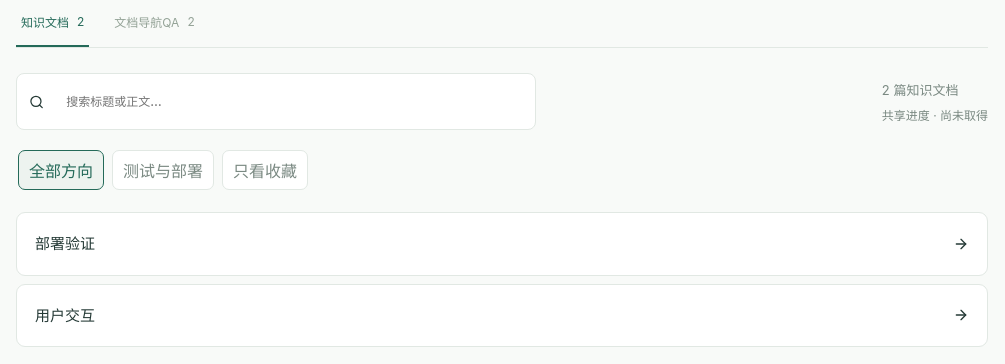
loads full text only when searching and finds a body-only match
The width and height of the screenshot is (1005, 364).
Expected: the button "用户交互" is shown, [16, 284, 988, 347]
Type "仅正文出现" into the search field named "搜索知识文档" at point(289, 102), box [54, 83, 523, 120]
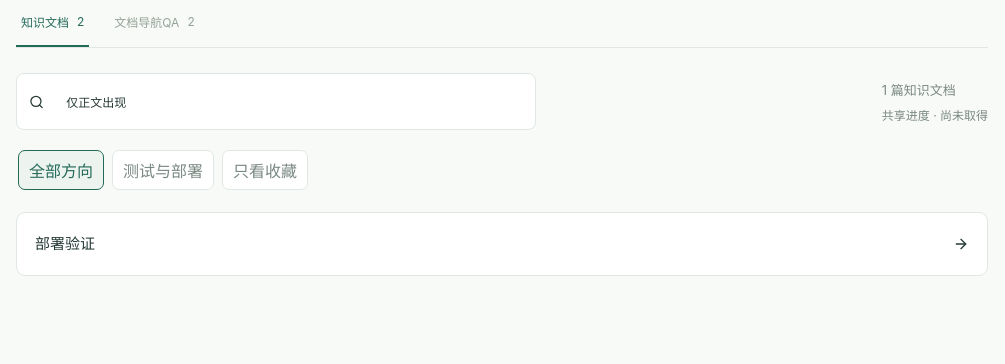
Expected: the button "部署验证" is shown, [16, 212, 988, 276]
Now the button "用户交互" is gone
